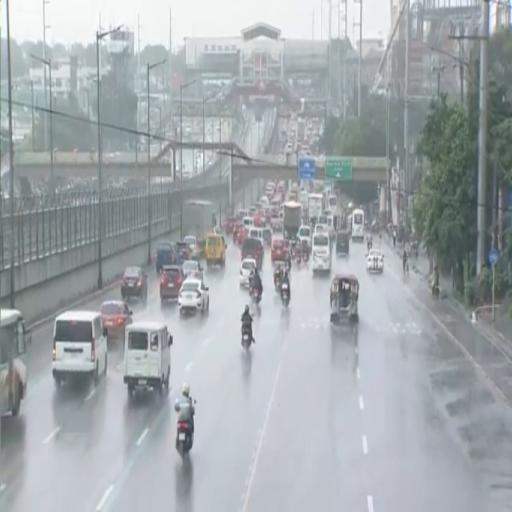bus: (0, 309, 29, 415), (352, 210, 364, 241)
car: (53, 311, 107, 386), (100, 300, 132, 340), (179, 278, 209, 313), (160, 265, 185, 301), (121, 267, 147, 300), (241, 238, 263, 269), (366, 249, 384, 273), (240, 259, 256, 286), (183, 235, 199, 260), (182, 260, 203, 279), (271, 239, 287, 263), (298, 226, 311, 245)
motorcycle: (176, 421, 193, 458), (250, 285, 262, 304), (242, 324, 251, 349), (281, 283, 289, 307), (274, 270, 282, 292), (432, 284, 440, 298), (403, 260, 408, 276), (296, 250, 301, 264), (303, 251, 309, 262), (367, 242, 372, 252), (285, 261, 290, 271)
truck: (283, 201, 302, 239), (308, 194, 323, 222)
